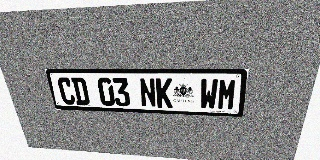0: (97, 78, 115, 106)
3: (112, 78, 130, 107)
C: (56, 77, 76, 105)
D: (71, 77, 90, 105)
K: (155, 78, 173, 108)
M: (217, 79, 238, 110)
N: (139, 78, 156, 108)
W: (199, 78, 218, 110)
